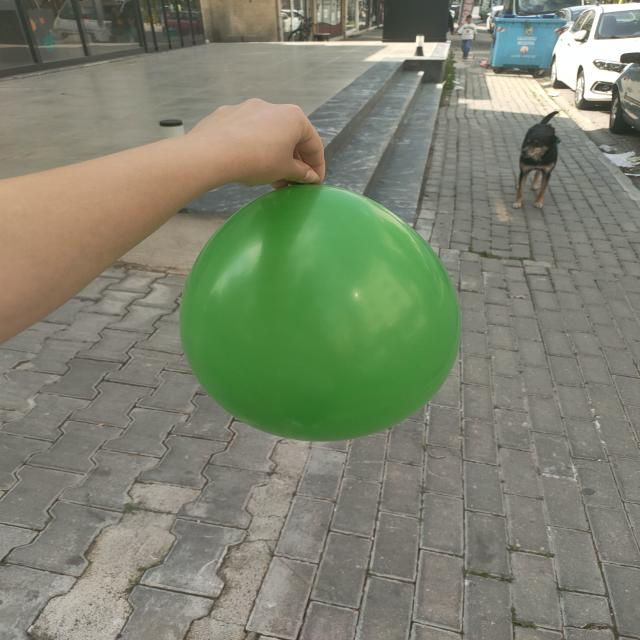green: (182, 185, 461, 444)
